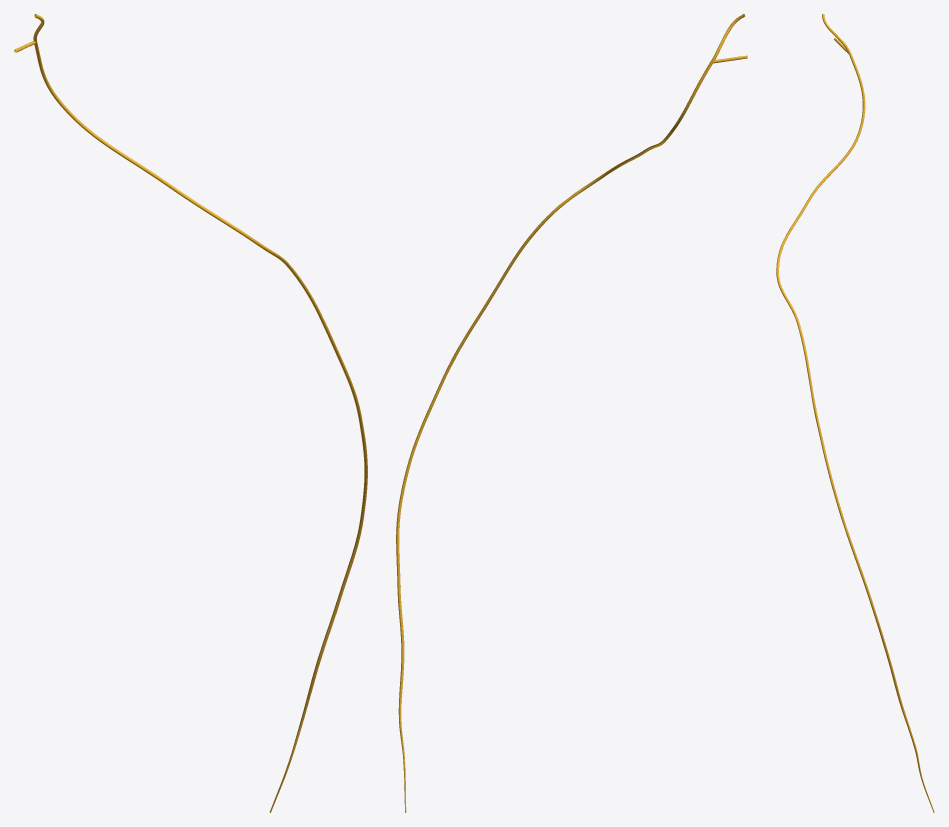
Rendered from nervoso-long-thoracic-nerve-l.glb.
3 renders of one model, left to right at view 1: azimuth 30°, elevation 25°; view 2: azimuth 150°, elevation 25°; view 3: azimuth 270°, elevation 25°, orthographic. The views are drawn at different scales.
Visible parts, largest first — view 1: Long thoracic nerve.l; view 2: Long thoracic nerve.l; view 3: Long thoracic nerve.l.
Part boxes in pixels (bbox=[...]): Long thoracic nerve.l: bbox=[14, 14, 367, 812]; Long thoracic nerve.l: bbox=[396, 14, 747, 812]; Long thoracic nerve.l: bbox=[776, 14, 934, 812].
Bounding box in the file's own units: 0.1207 × 0.2876 × 0.0601.
